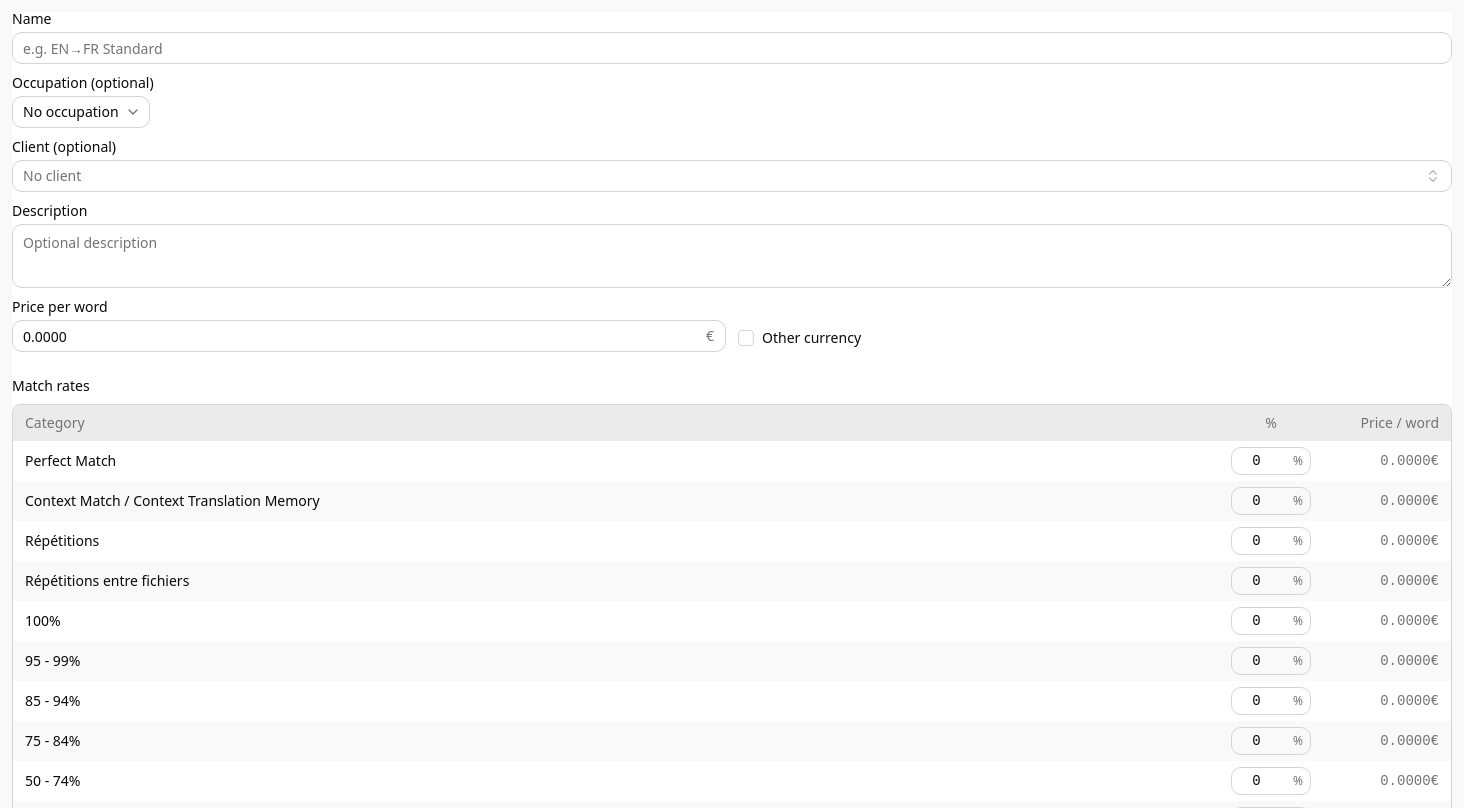
Test: RateSheetForm › only offers translator occupations, since rate sheets are per-word
What coordinates should you click on to do the following:
click the dropdown named "Occupation (optional)"
I would click on:
 (81, 112)
Its box is [12,96,150,128].
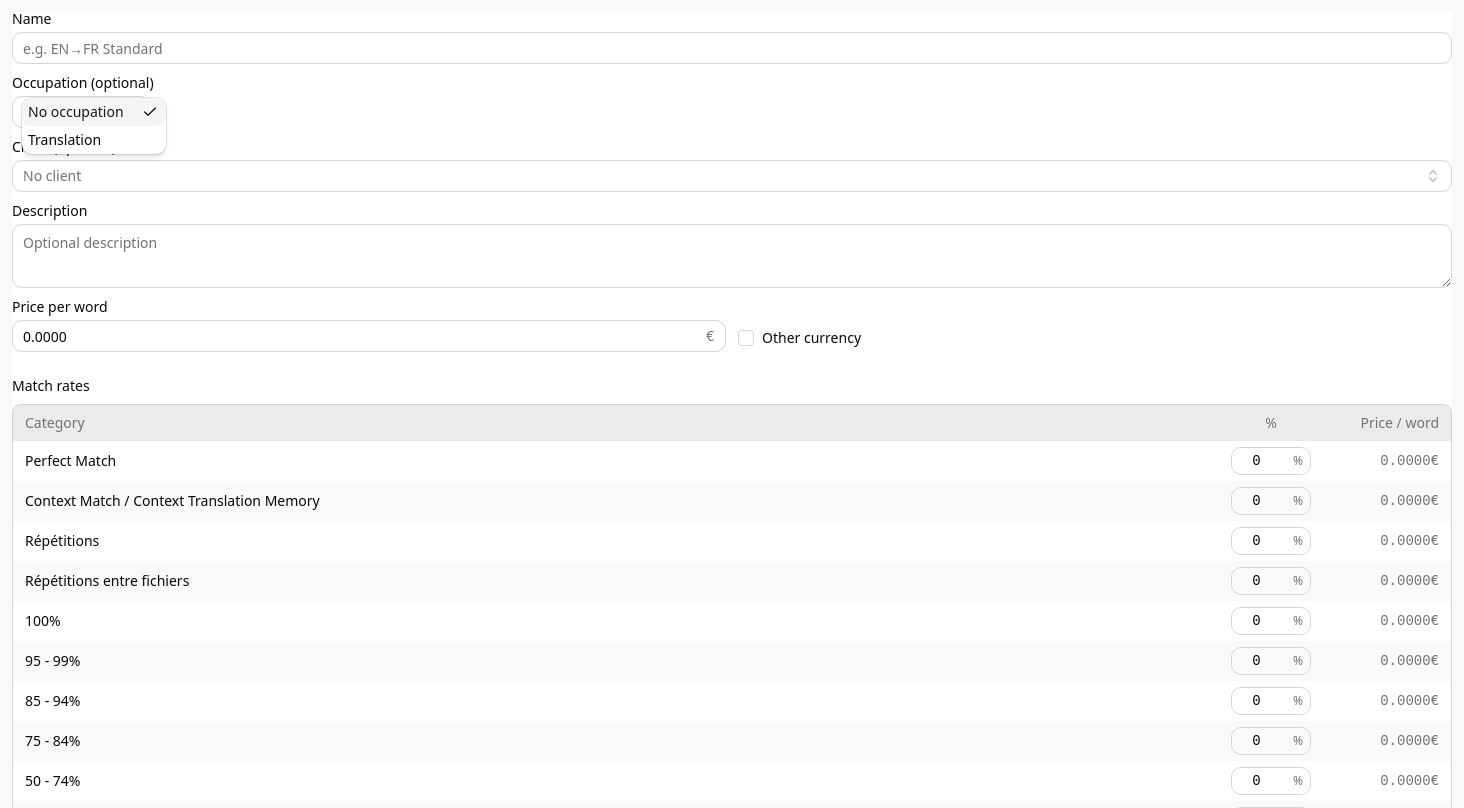
Now the option "Translation" is shown, box [28,130,101,149]
